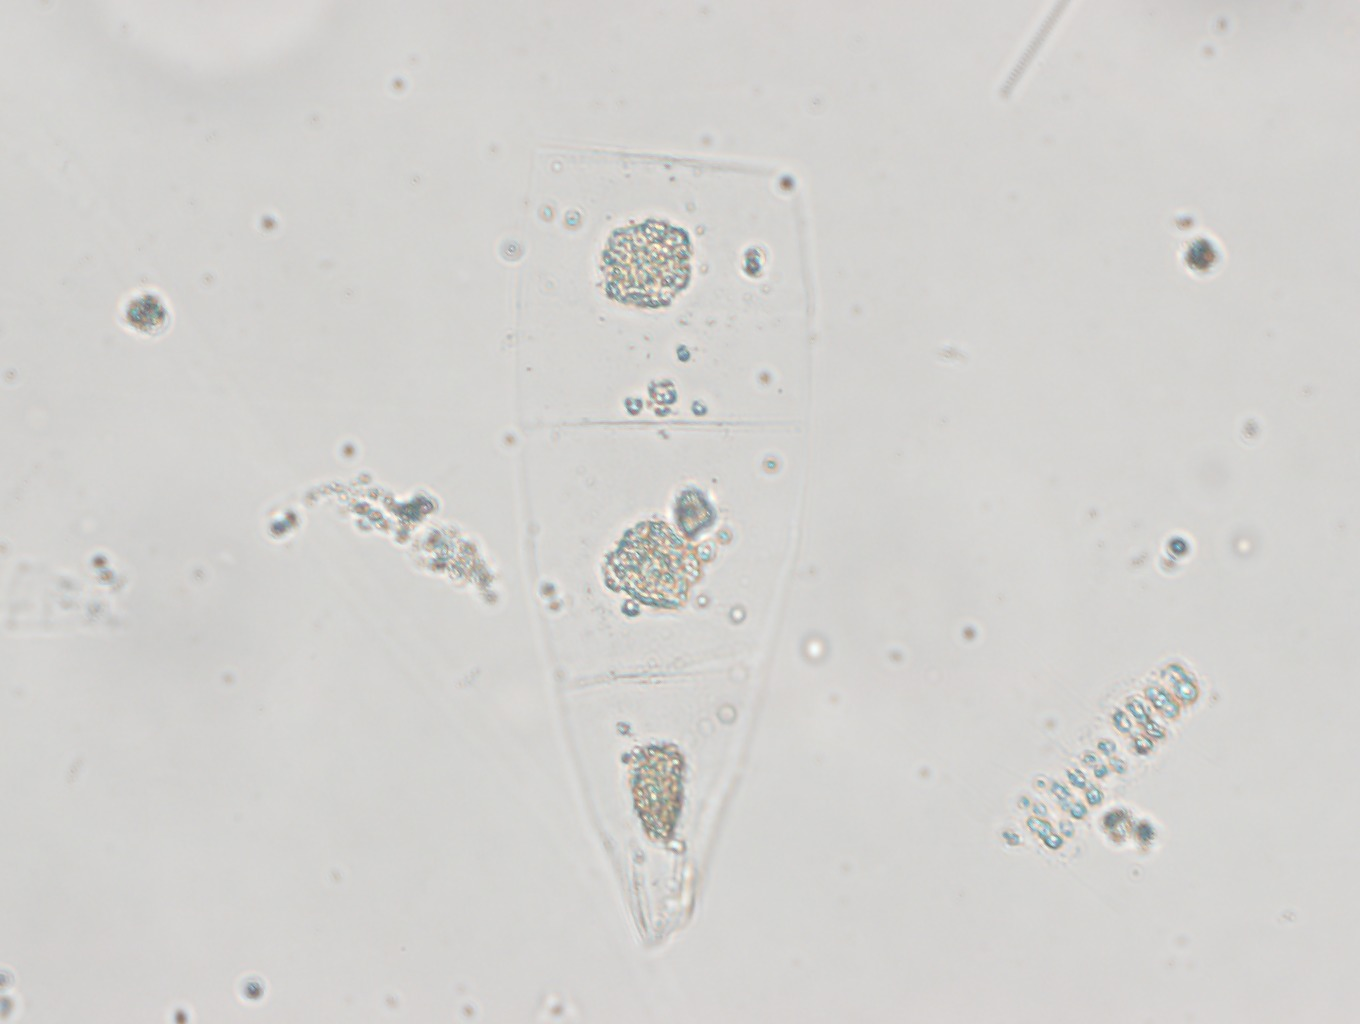chaetoceros: (1010, 650, 1205, 864)
helicotheca: (513, 142, 808, 949)
